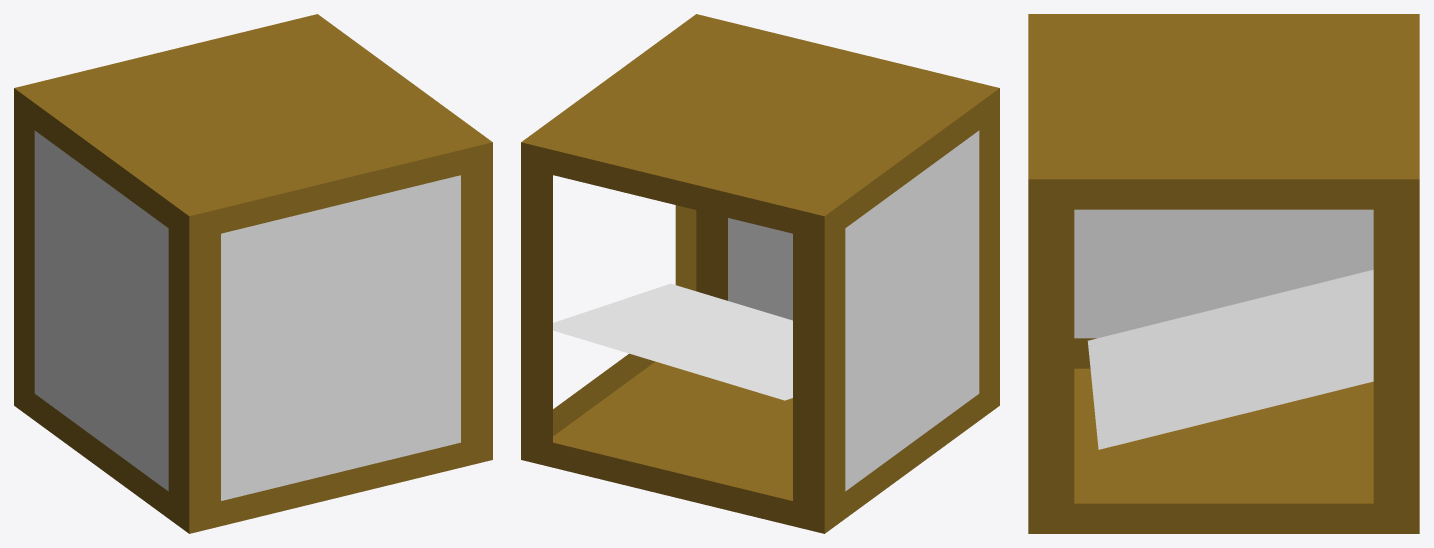
The model's file is teca.glb.
3 renders of one model, left to right at view 1: azimuth 30°, elevation 25°; view 2: azimuth 150°, elevation 25°; view 3: azimuth 270°, elevation 25°, orthographic. The views are drawn at different scales.
Visible parts, largest first — view 1: Cube; view 2: Cube, Cube.001; view 3: Cube, Cube.001.
Boxes of the visible parts, x1,y1,x2,y2 form: Cube: [14, 14, 492, 533]; Cube: [521, 14, 999, 533]; Cube.001: [553, 283, 792, 400]; Cube: [1028, 14, 1419, 533]; Cube.001: [1087, 270, 1373, 449].
Bounding box in the file's own units: 2 × 2 × 2.
